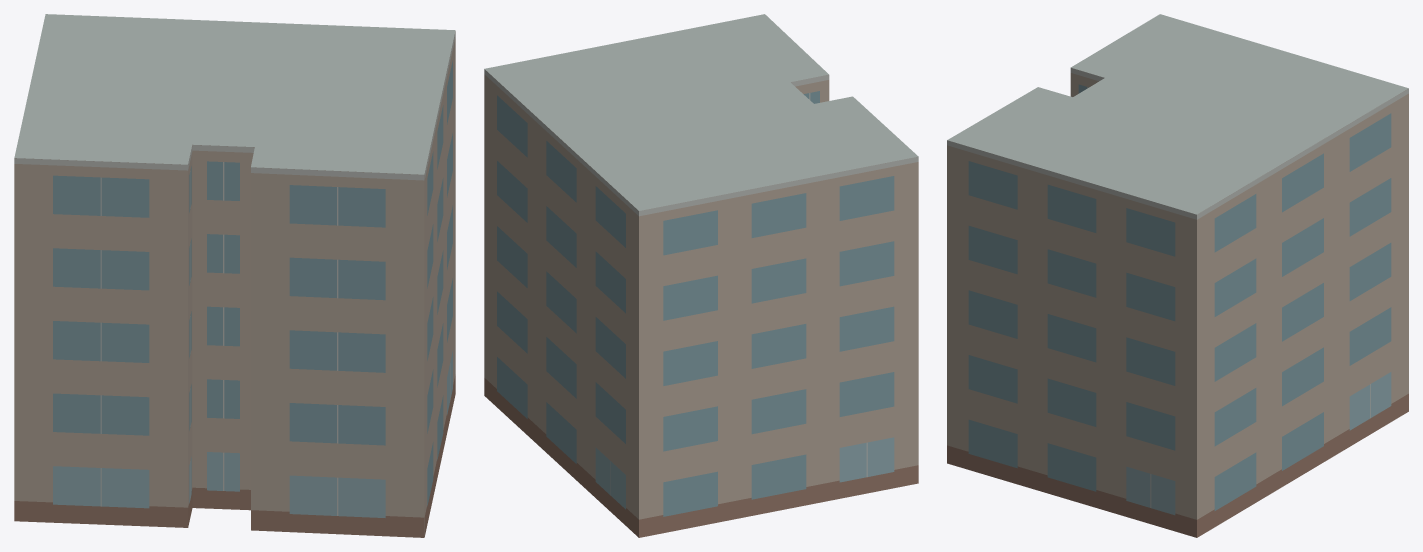
File: survey-upis-32759367.glb
3 renders of one model, left to right at view 1: azimuth 30°, elevation 25°; view 2: azimuth 150°, elevation 25°; view 3: azimuth 270°, elevation 25°, orthographic. The views are drawn at different scales.
Parts seen in each view (by area): view 1: survey-upis-32759367.tmp; view 2: survey-upis-32759367.tmp; view 3: survey-upis-32759367.tmp.
Part boxes in pixels (x1=…): survey-upis-32759367.tmp: x1=14, y1=14, x2=455, y2=537; survey-upis-32759367.tmp: x1=484, y1=14, x2=918, y2=537; survey-upis-32759367.tmp: x1=947, y1=14, x2=1408, y2=537.
Bounding box in the file's own units: 20.31 × 15.25 × 19.75.
